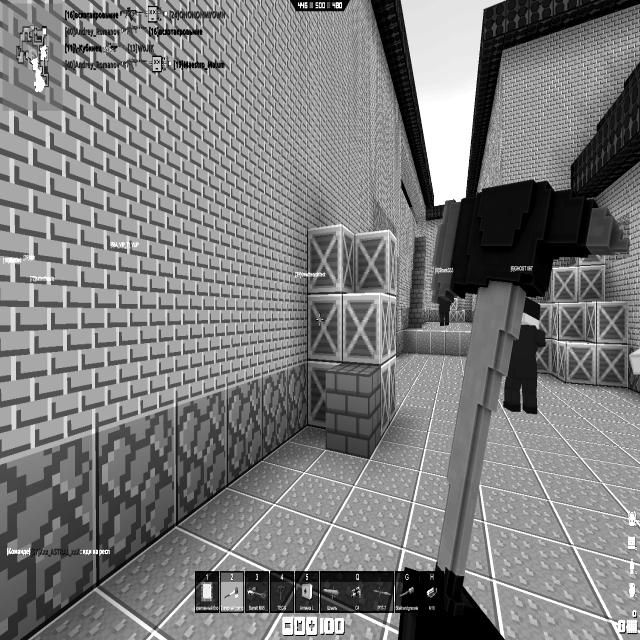Head: (522, 296, 540, 321)
Player: (503, 296, 546, 414), (437, 292, 456, 326)
